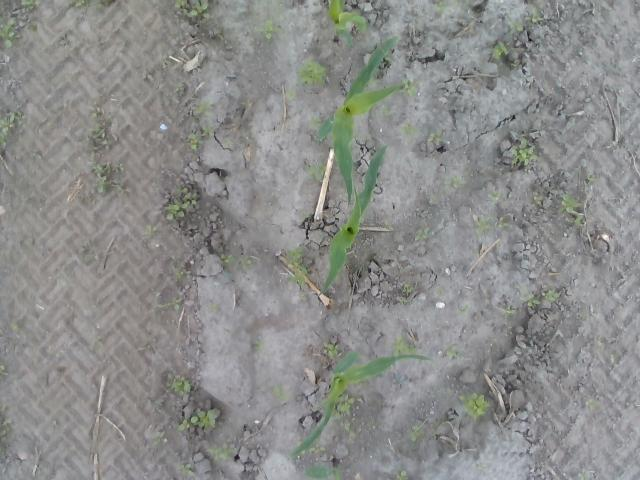Maize: (291, 348, 434, 456), (316, 35, 404, 210), (320, 144, 390, 286), (326, 0, 371, 49), (302, 463, 344, 480)
Weeds: (88, 102, 112, 194), (162, 175, 200, 223), (186, 97, 214, 153), (0, 109, 27, 150), (175, 407, 218, 432), (511, 130, 538, 168), (297, 56, 329, 88), (151, 292, 183, 321), (286, 244, 308, 286), (255, 15, 288, 42), (457, 390, 491, 416), (336, 398, 356, 439), (560, 196, 584, 226), (165, 373, 192, 396), (527, 286, 561, 304), (175, 0, 209, 18), (0, 414, 16, 450), (0, 20, 17, 52), (112, 159, 126, 196), (208, 445, 240, 461), (302, 161, 325, 182), (474, 214, 490, 240), (490, 40, 510, 60), (433, 0, 465, 12), (391, 338, 418, 352), (454, 303, 473, 322), (398, 284, 414, 306), (427, 130, 448, 146), (218, 255, 255, 264), (272, 386, 292, 402), (152, 432, 168, 450), (408, 424, 422, 444), (530, 6, 544, 26), (322, 341, 338, 358), (142, 224, 158, 241), (444, 341, 459, 358), (401, 80, 418, 95), (302, 444, 327, 454), (398, 123, 417, 136), (447, 174, 464, 188), (414, 228, 432, 241), (20, 0, 41, 11), (308, 112, 322, 128), (179, 462, 193, 478), (531, 190, 543, 208), (175, 270, 193, 282), (509, 20, 524, 34), (394, 469, 412, 480), (94, 0, 112, 11), (584, 398, 598, 412), (425, 286, 444, 296), (489, 190, 504, 202), (495, 220, 516, 228), (176, 80, 186, 96), (285, 88, 298, 100), (206, 301, 218, 314), (582, 174, 596, 185), (70, 0, 88, 8), (255, 338, 265, 352), (577, 471, 590, 480), (240, 100, 254, 108), (502, 304, 511, 316), (28, 22, 38, 32), (378, 106, 390, 113), (0, 364, 6, 377), (473, 249, 481, 257), (511, 61, 518, 68), (382, 224, 391, 228)
